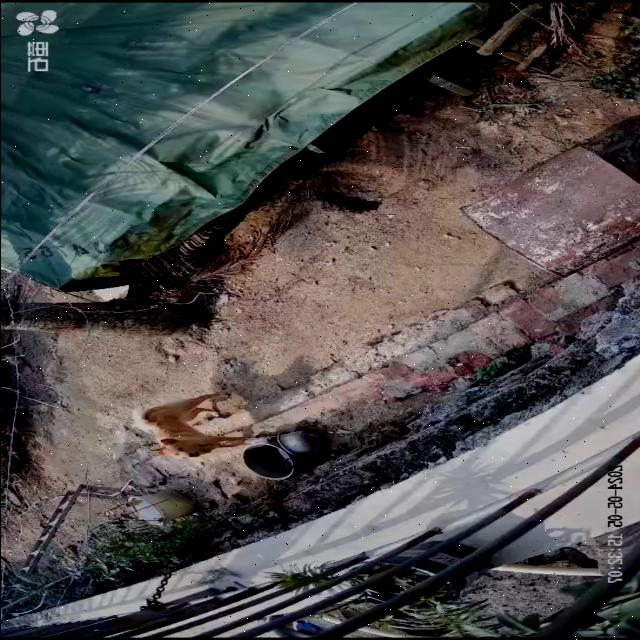dog: (131, 394, 267, 460)
